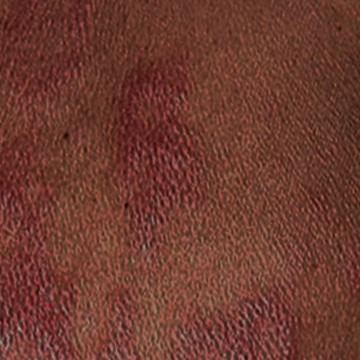Leprosy: (89, 53, 231, 247), (0, 0, 72, 235), (0, 255, 144, 356), (157, 286, 320, 359)
